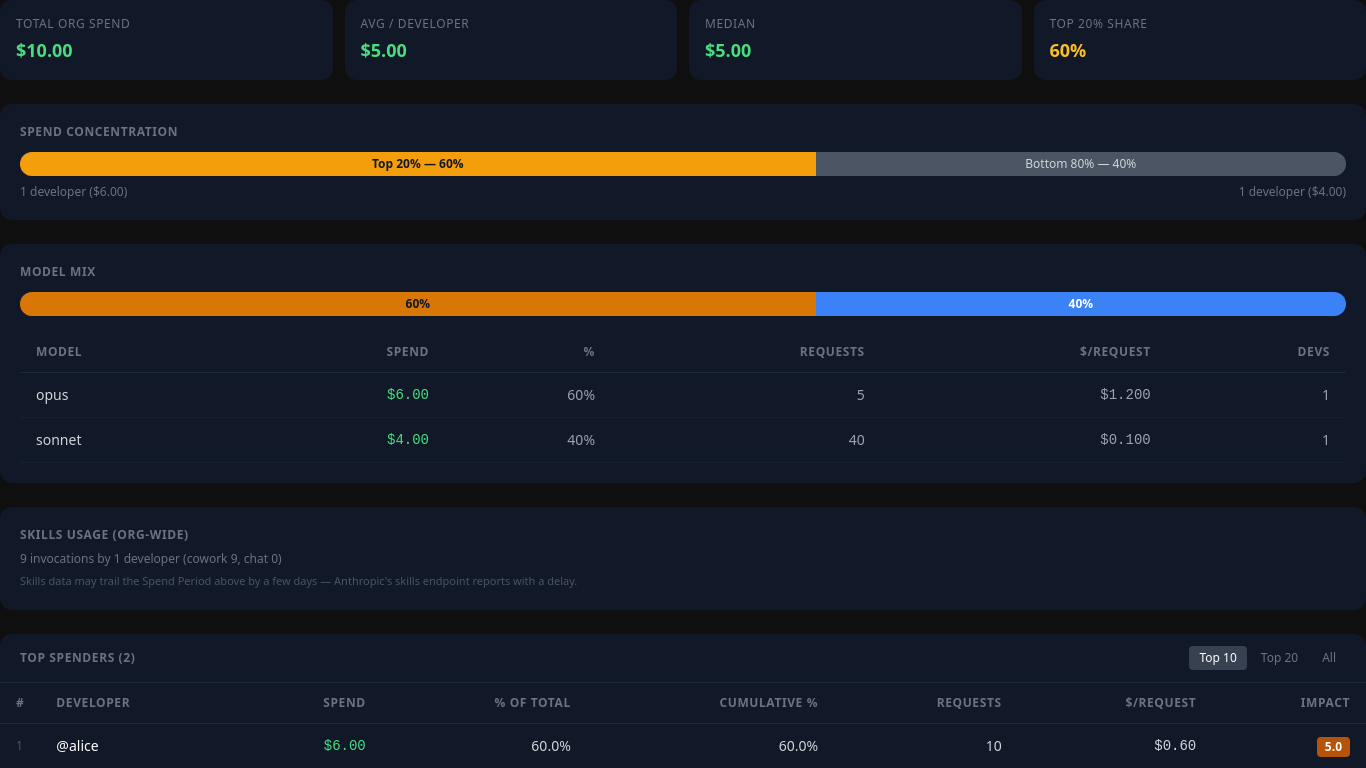
it: shows a tooltip with the hovered segment's model name and spend
Hover over the picture "60%" at point(418, 304), box [20,292,816,316]
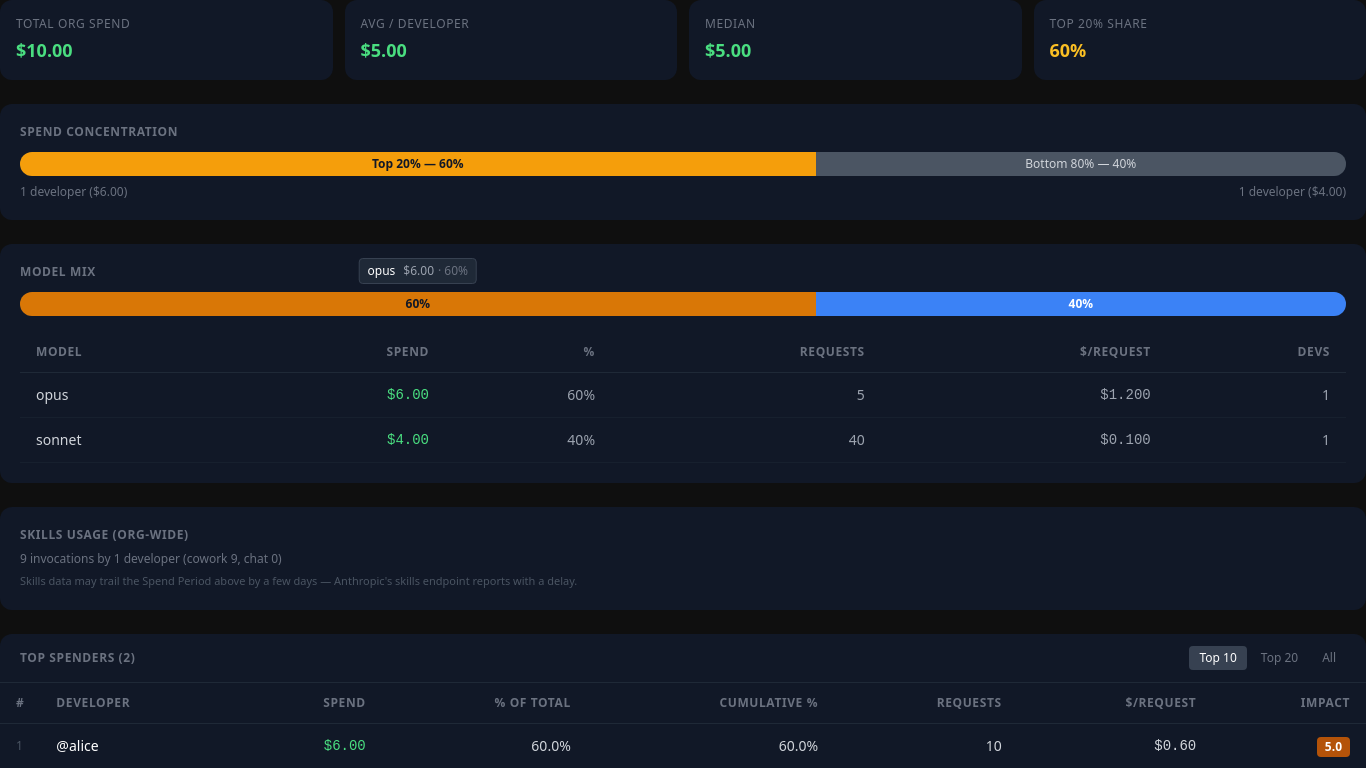
Check: the element with class "bottom-full" is shown, box [358,258,477,284]
Check: the element with class "bottom-full" shows "opus", box [368,262,395,279]
Check: the element with class "bottom-full" shows "$6.00", box [403,262,434,279]
Move the pointer off the picture "60%", box [20,292,816,316]
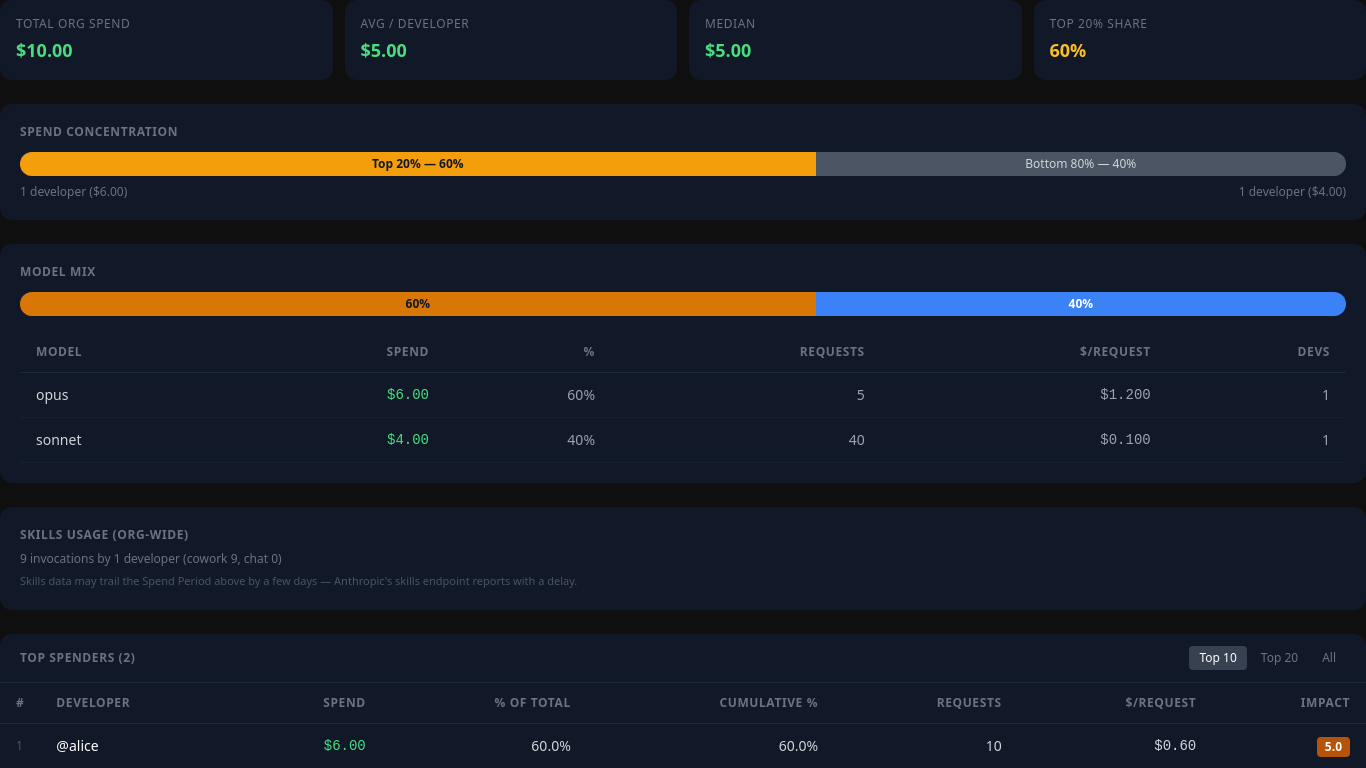
Check: the element with class "bottom-full" is gone
